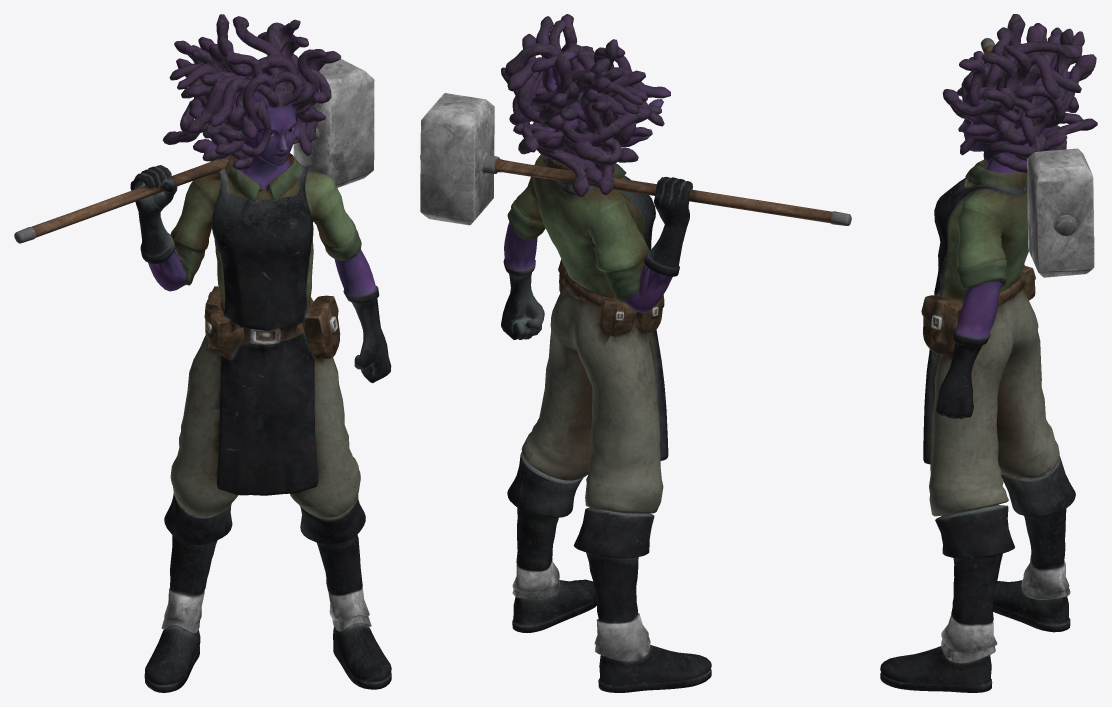
File: MZ4250 - Medusa Blacksmith.glb
The picture shows the model from 3 angles, left to right: view 1: azimuth 30°, elevation 25°; view 2: azimuth 150°, elevation 25°; view 3: azimuth 270°, elevation 25°; orthographic projection.
Parts seen in each view (by area): view 1: Med_Fm_BS_low.002; view 2: Med_Fm_BS_low.002; view 3: Med_Fm_BS_low.002.
Part boxes in pixels (bbox=[...]): Med_Fm_BS_low.002: bbox=[14, 14, 391, 692]; Med_Fm_BS_low.002: bbox=[420, 14, 851, 692]; Med_Fm_BS_low.002: bbox=[880, 14, 1097, 692].
Size of the model in its own units: 3.92 by 6.08 by 1.92.
Materials: 1 (1 with a texture image).
